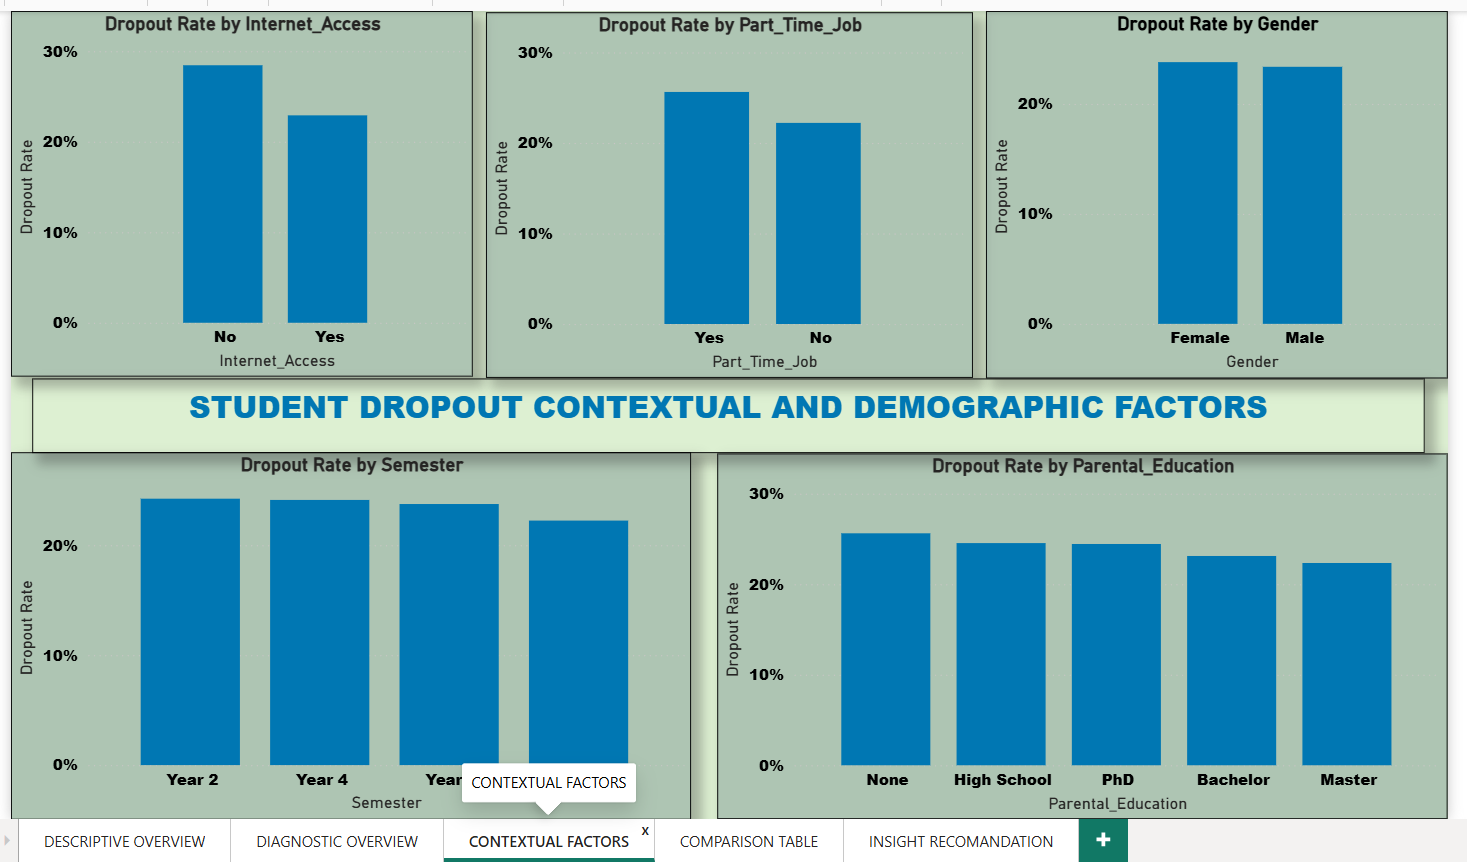

What the dashboard file says about the page in this screenshot:
{"tool":"powerbi","page":{"name":"CONTEXTUAL FACTORS","canvas":[1280,720],"ordinal":2},"visuals":[{"type":"clusteredColumnChart","fields":{"Category":["STUDENTS.Internet_Access"],"Y":["STUDENTS.Dropout Rate"]},"box":[0,0,411.4,325.8],"z":0},{"type":"clusteredColumnChart","fields":{"Category":["STUDENTS.Parental_Education"],"Y":["STUDENTS.Dropout Rate"]},"box":[629.3,393.9,650.7,325.8],"z":1000},{"type":"clusteredColumnChart","fields":{"Category":["STUDENTS.Part_Time_Job"],"Y":["STUDENTS.Dropout Rate"]},"box":[423.1,1,433.8,325.8],"z":2000},{"type":"clusteredColumnChart","fields":{"Category":["STUDENTS.Gender"],"Y":["STUDENTS.Dropout Rate"]},"box":[868.6,0,411.4,326.8],"z":3000},{"type":"clusteredColumnChart","fields":{"Category":["STUDENTS.Semester"],"Y":["STUDENTS.Dropout Rate"]},"box":[0,392.9,606,326.8],"z":4000},{"type":"textbox","box":[19.5,326.8,1240.1,66.1],"z":5000}]}

Visuals, with their boxes in screenshot pixels (x1, y1, x2, y2):
clusteredColumnChart - STUDENTS.Internet_Access x STUDENTS.Dropout Rate: [0, 4, 465, 372]
clusteredColumnChart - STUDENTS.Parental_Education x STUDENTS.Dropout Rate: [711, 449, 1447, 817]
clusteredColumnChart - STUDENTS.Part_Time_Job x STUDENTS.Dropout Rate: [478, 5, 969, 373]
clusteredColumnChart - STUDENTS.Gender x STUDENTS.Dropout Rate: [982, 4, 1447, 373]
clusteredColumnChart - STUDENTS.Semester x STUDENTS.Dropout Rate: [0, 448, 685, 817]
textbox: [22, 373, 1424, 448]
